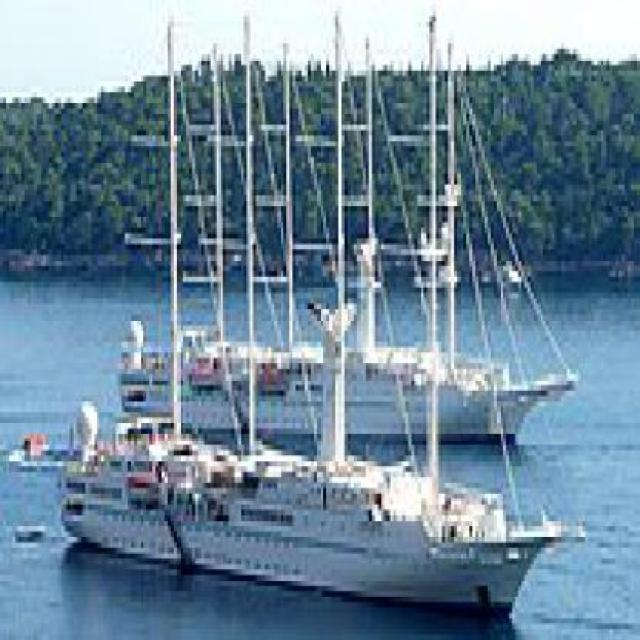cruise: (50, 381, 599, 635)
